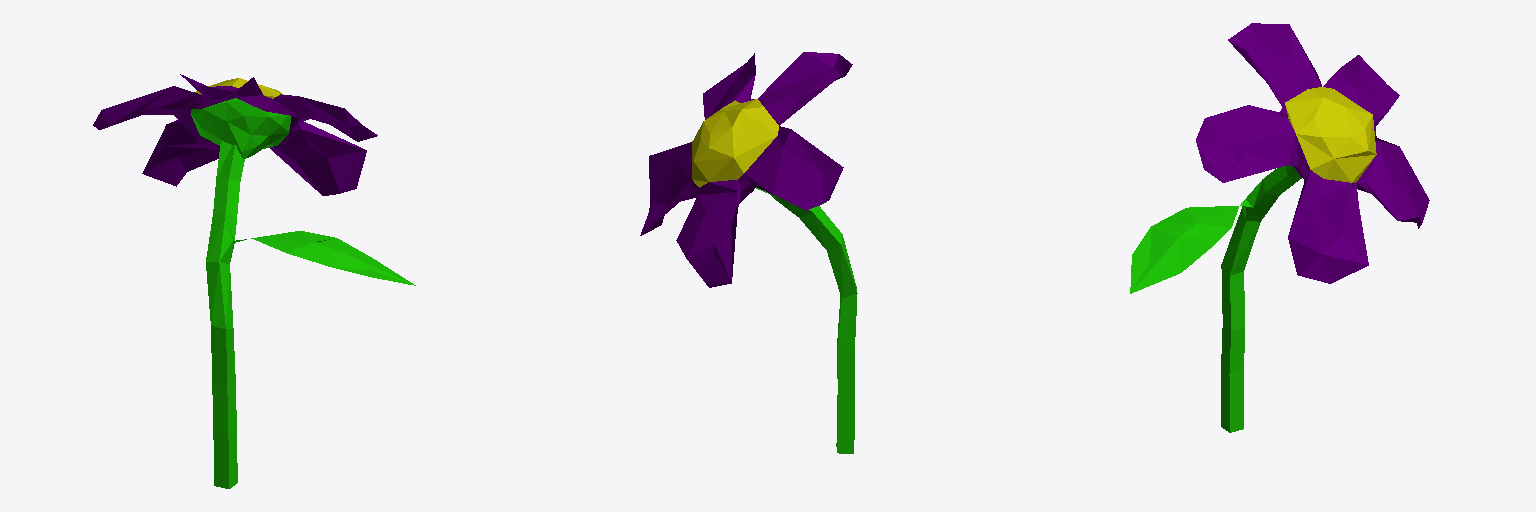
The model's file is Flower3.obj.
3 views of the same model, side by side, from view 1: azimuth 30°, elevation 25°; view 2: azimuth 150°, elevation 25°; view 3: azimuth 270°, elevation 25° (orthographic).
Parts seen in each view (by area): view 1: Flower3_Plane.614; view 2: Flower3_Plane.614; view 3: Flower3_Plane.614.
Boxes of the visible parts, <box> form: Flower3_Plane.614: <box>93,74,415,488</box>; Flower3_Plane.614: <box>640,52,857,453</box>; Flower3_Plane.614: <box>1130,23,1429,432</box>.
Size of the model in its own units: 0.8978 by 1.48 by 1.01.